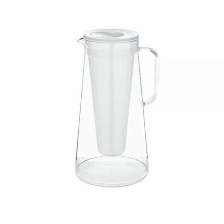glass: (65, 20, 175, 192)
